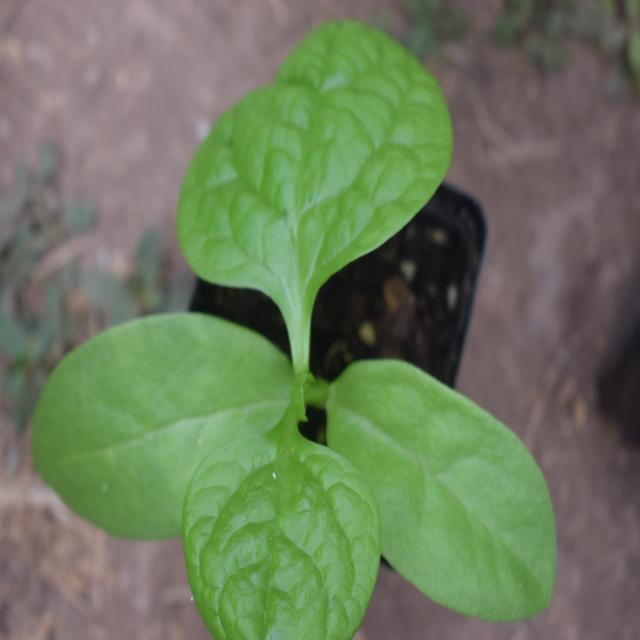Ceylon spinach: (57, 34, 560, 630)
